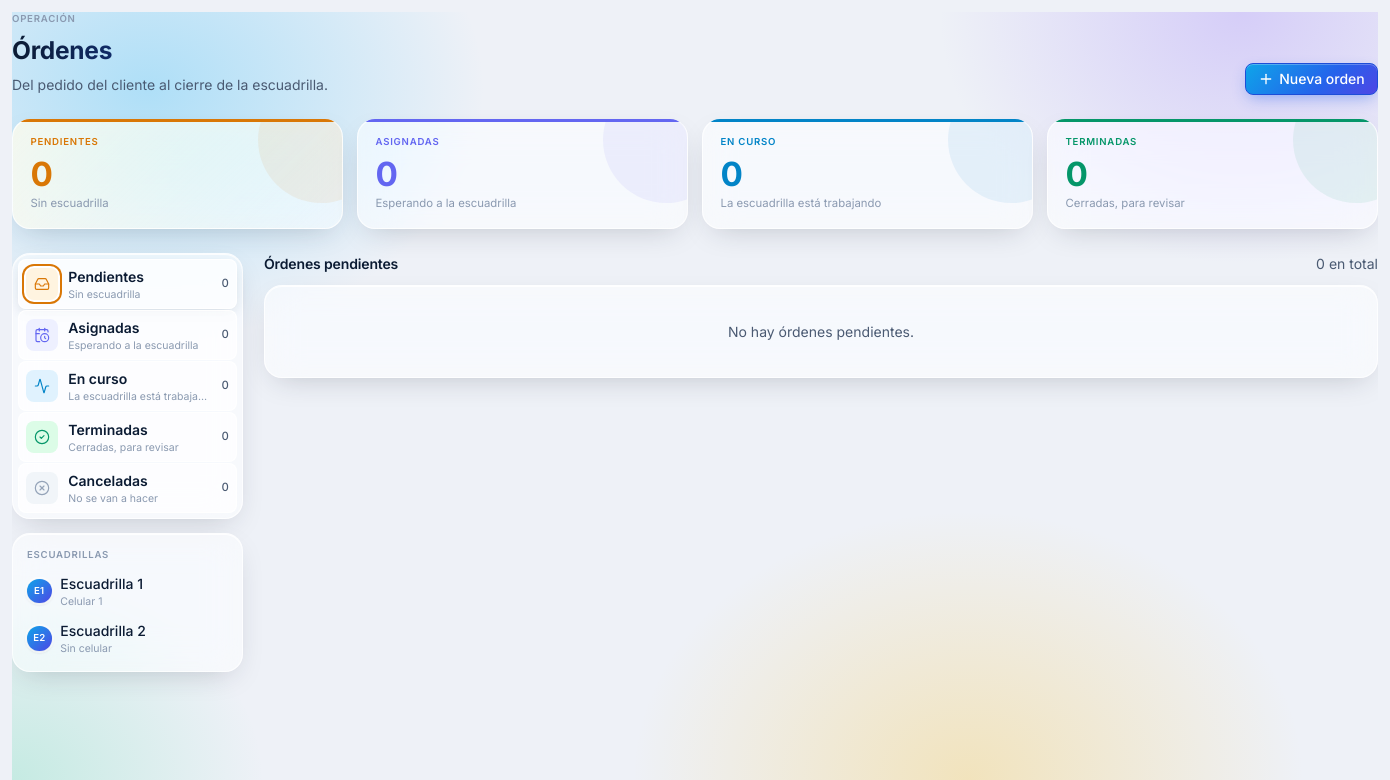
it: OrdersPage › al entrar al campo despliega los clientes sin escribir nada
Click the button "Nueva orden".
click(1311, 79)  # box 1245,63 -> 1378,95
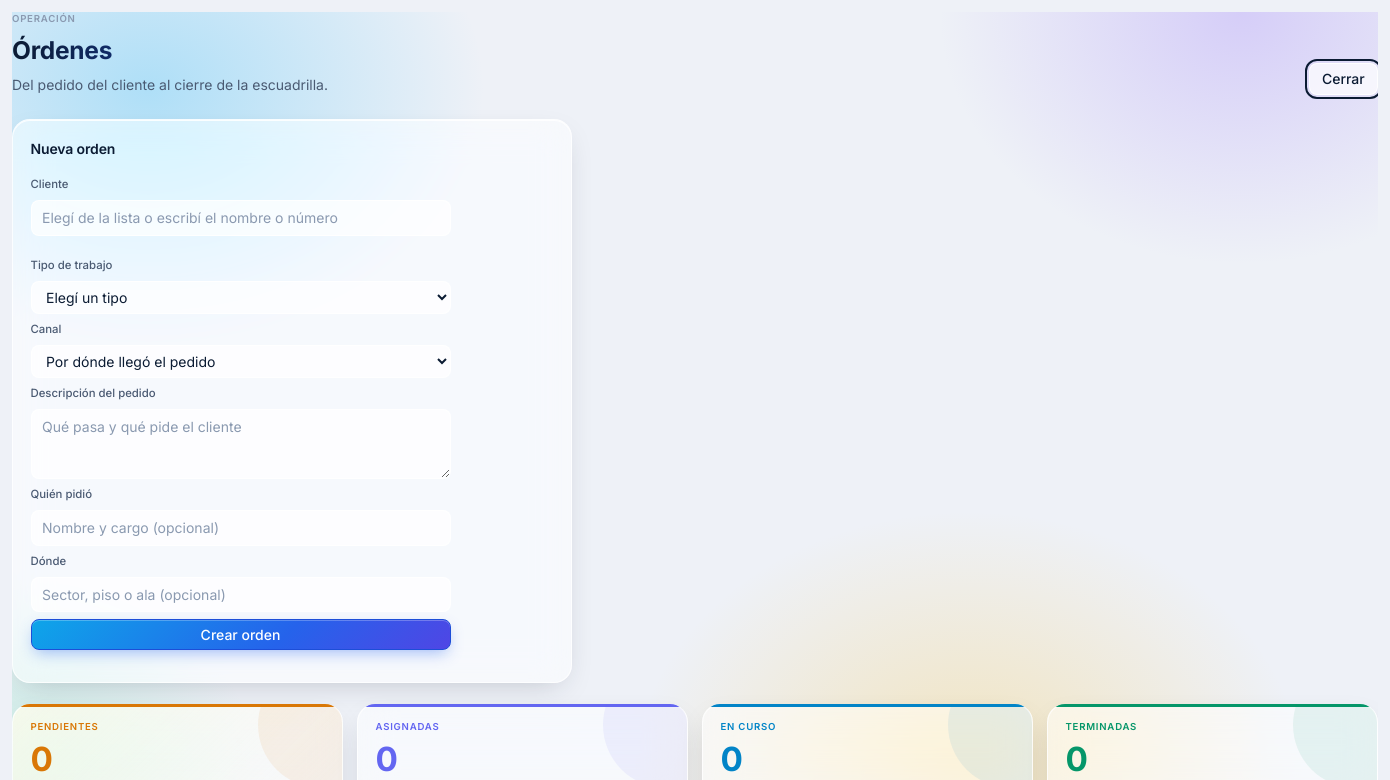
Click the dropdown labelled "Cliente".
click(240, 218)  # box 30,200 -> 450,236
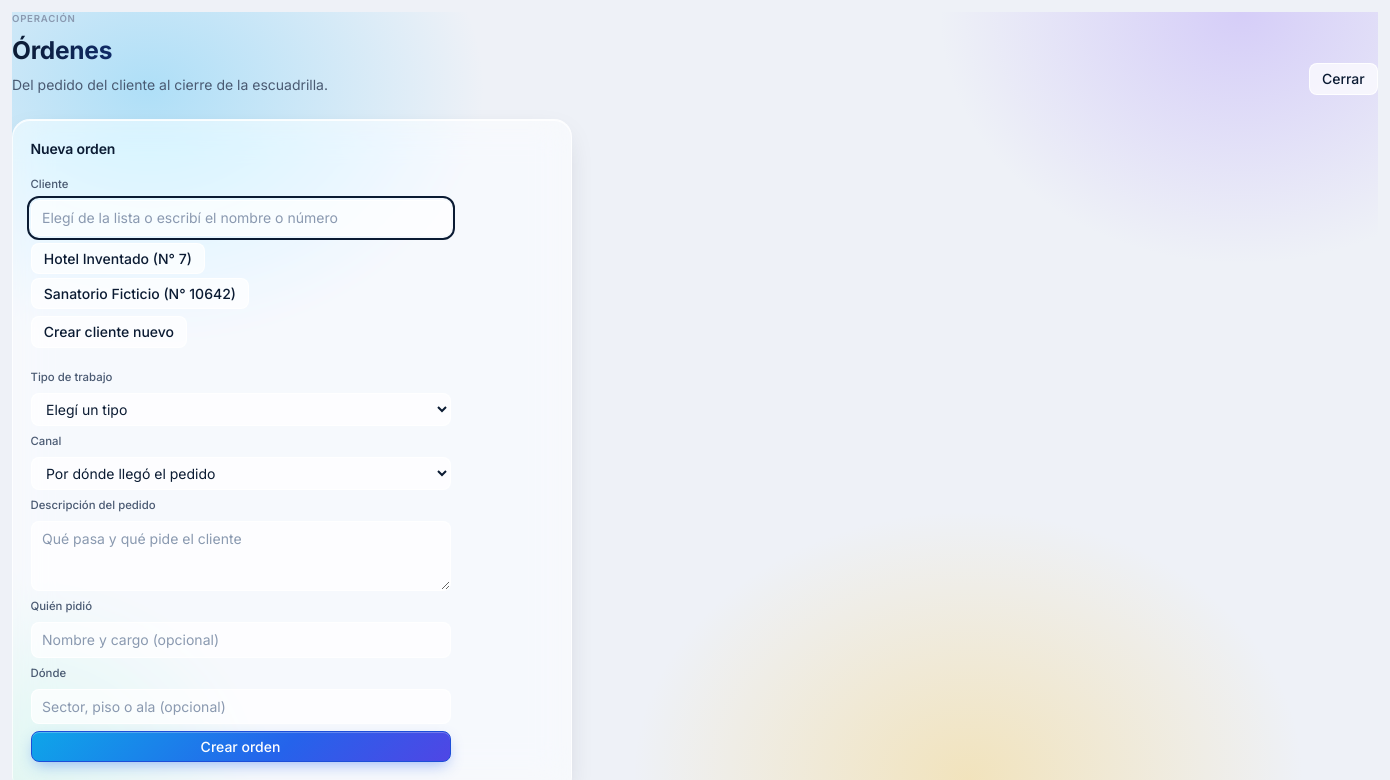
expect the button with aria-label "Elegir Hotel Inventado" is shown: met, box 30,242 -> 205,274
expect the button with aria-label "Elegir Sanatorio Ficticio" is shown: met, box 30,278 -> 249,309
